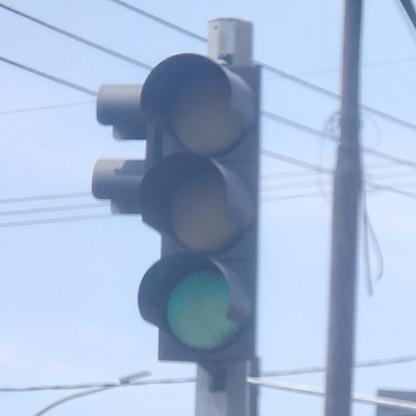green: (138, 53, 259, 363)
